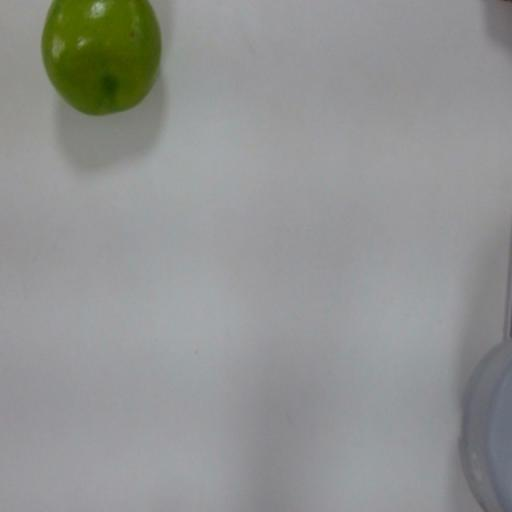Unripe: (38, 0, 166, 119)
